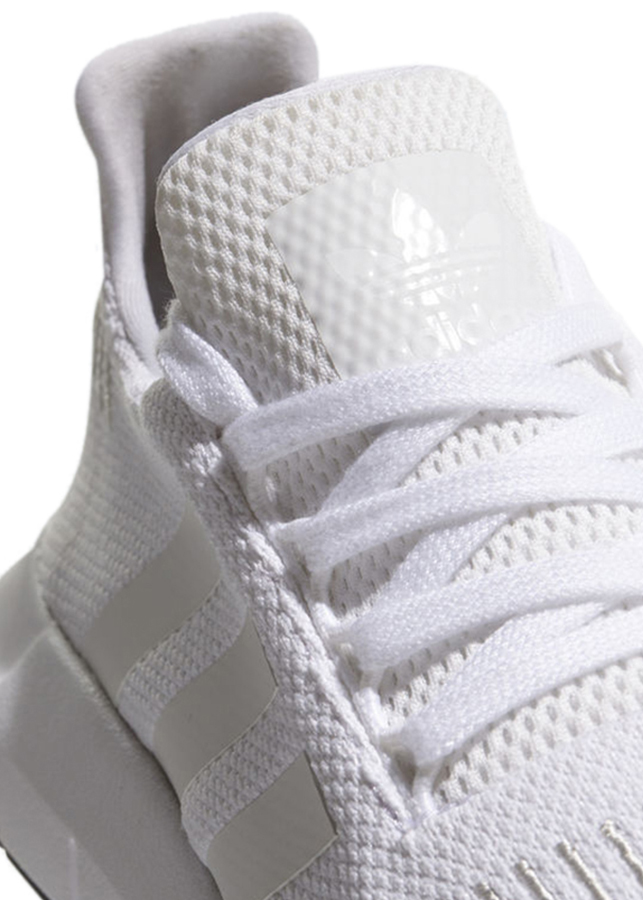Adidas: (322, 182, 543, 369)
